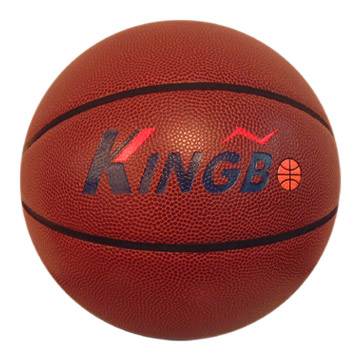basketball: (20, 20, 340, 340)
